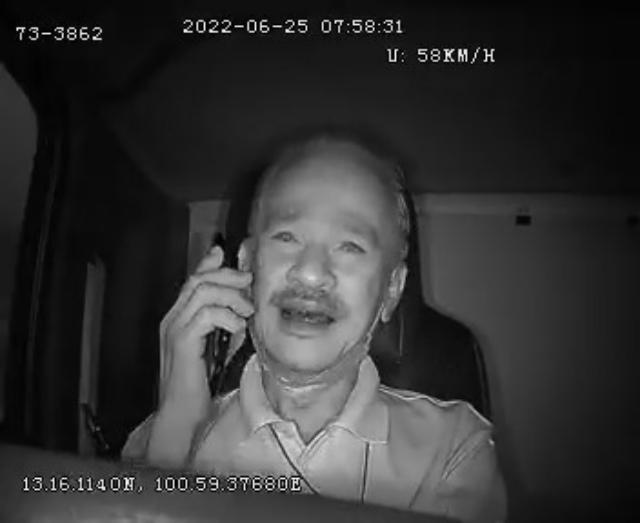PhoneUse: (198, 231, 238, 400)
SafeDriving: (328, 225, 373, 264), (264, 214, 306, 253)
